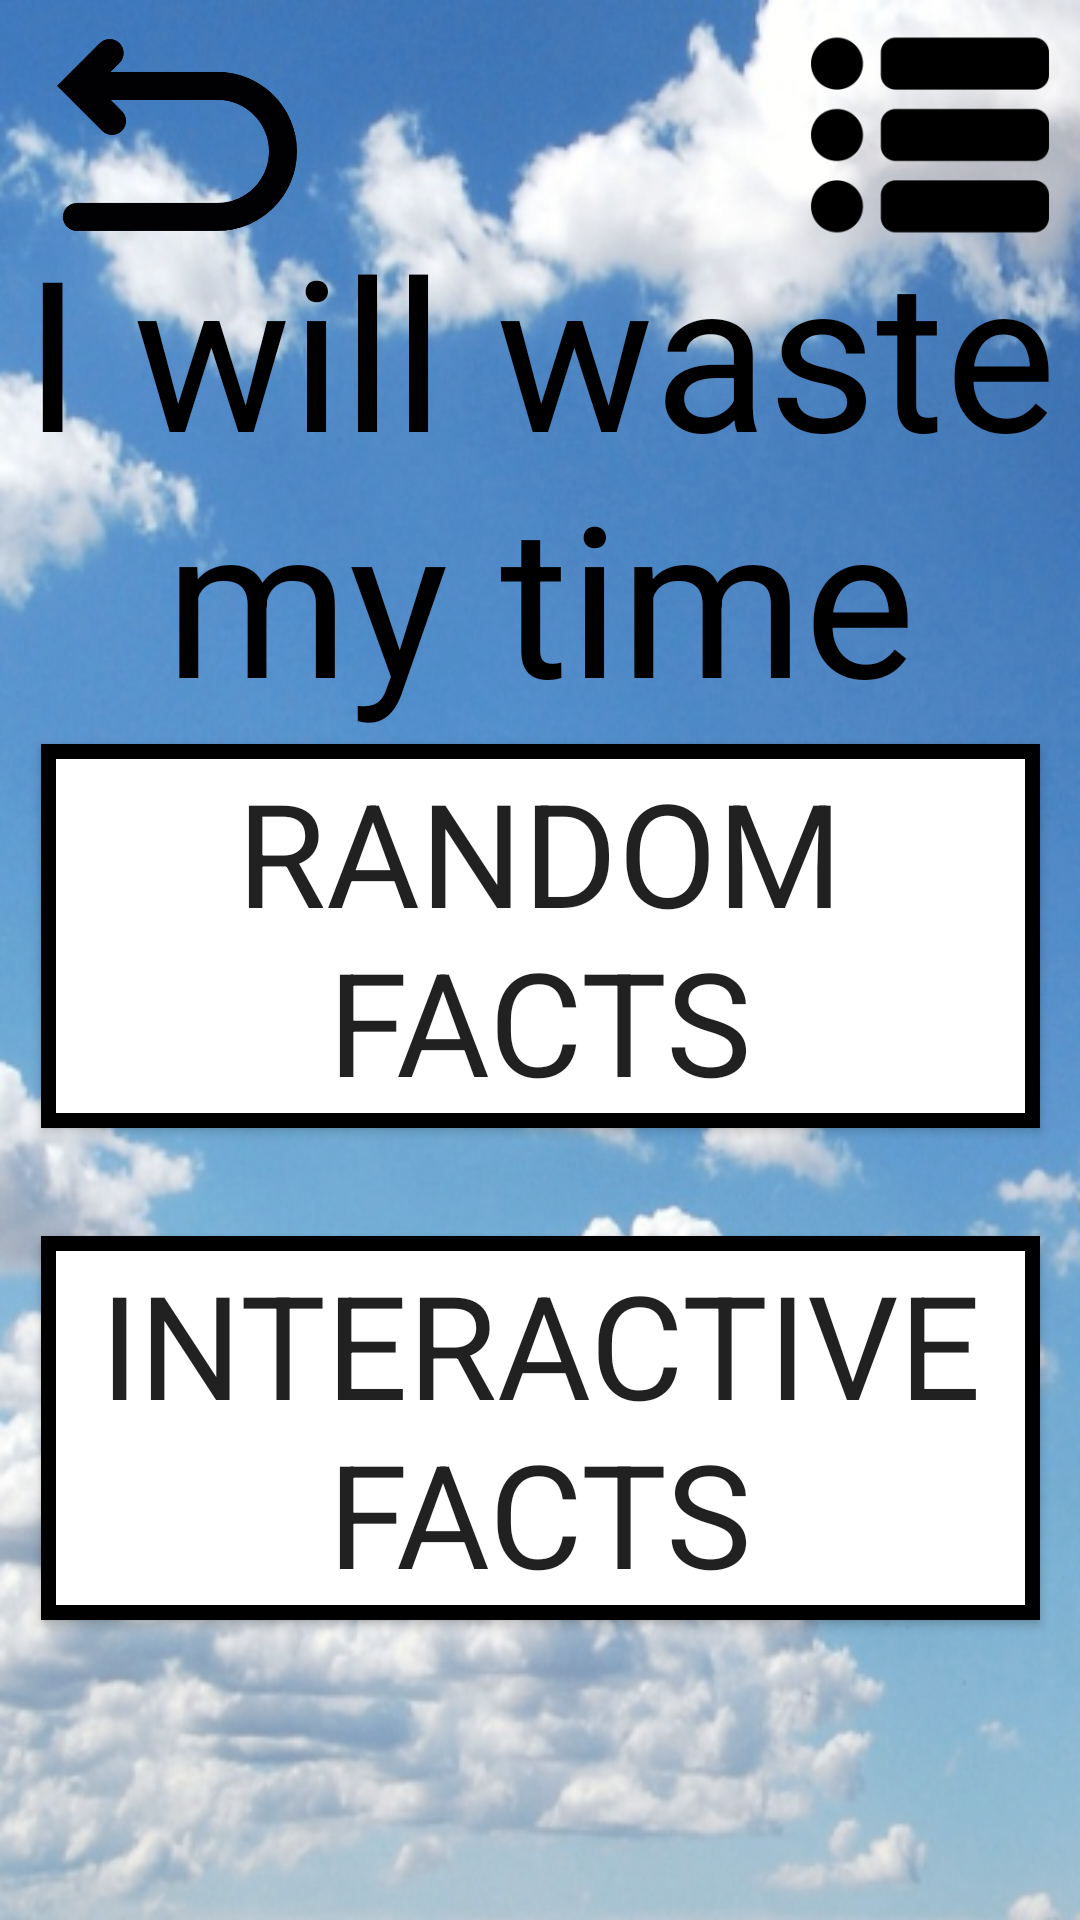

Icons on this 1080*1920 Android screen, each with the point to tap as point (x, y):
Menu button: point (930, 135)
Return button image: point (177, 147)
